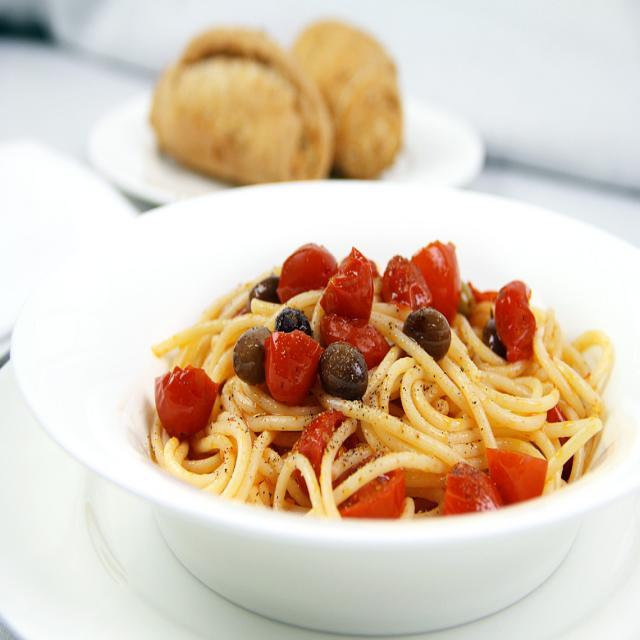Oil pasta: (147, 195, 617, 629)
